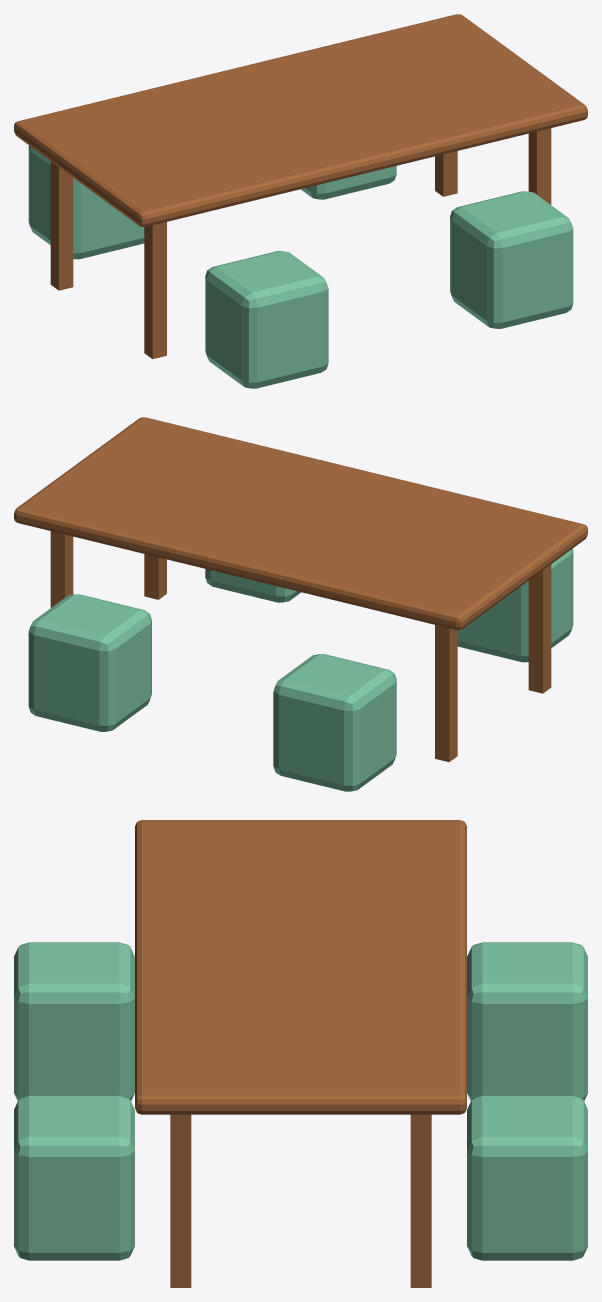
The model's file is int_mejaBaca.fbx.
3 renders of one model, top to bottom at view 1: azimuth 30°, elevation 25°; view 2: azimuth 150°, elevation 25°; view 3: azimuth 270°, elevation 25°, orthographic. The views are drawn at different scales.
Parts seen in each view (by area): view 1: int_mejaBaca; view 2: int_mejaBaca; view 3: int_mejaBaca.
Part boxes in pixels (x1,y1,x2,y2): int_mejaBaca: (14, 14, 587, 388); int_mejaBaca: (14, 417, 587, 791); int_mejaBaca: (14, 820, 587, 1287).
Size of the model in its own units: 220 by 75 by 190.
Materials: 1 (1 with a texture image).
